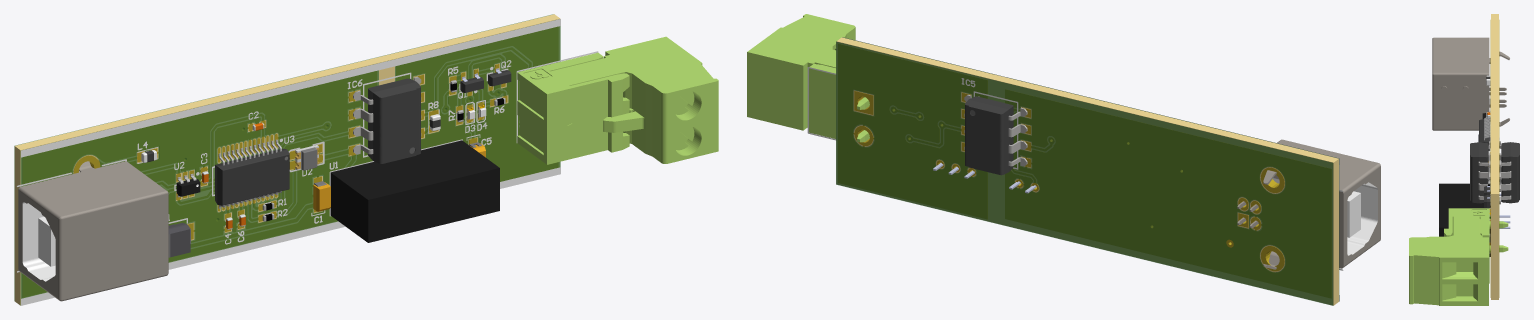
Rendered from MAIN.obj.
3 renders of one model, left to right at view 1: azimuth 30°, elevation 25°; view 2: azimuth 150°, elevation 25°; view 3: azimuth 270°, elevation 25°, orthographic. The views are drawn at different scales.
Visible parts, largest first — view 1: Solder_Top, ComponentBody.3, GND, ComponentBody.6, ComponentBody.2, Core, Top, GND1, ComponentBody.34, ComponentBody.4, ComponentBody.11, ComponentBody.15 (+6 smaller); view 2: Solder_Bottom, GND, GND1, Core, ComponentBody.3, ComponentBody.6, ComponentBody.4, ComponentBody.82, ComponentBody.78, Pad.2, ComponentBody.86, Top (+2 smaller); view 3: ComponentBody.3, ComponentBody.6, Core, ComponentBody.2, ComponentBody.82, ComponentBody.11, GND1, ComponentBody.78, ComponentBody.19, ComponentBody.15, ComponentBody.86, GND (+9 smaller).
Boxes of the visible parts, left/top/right/bottom form: Solder_Top: left=20, top=26, right=560, bottom=305; ComponentBody.3: left=517, top=36, right=718, bottom=164; GND: left=22, top=71, right=376, bottom=297; ComponentBody.6: left=18, top=161, right=168, bottom=301; ComponentBody.2: left=330, top=140, right=499, bottom=242; Core: left=14, top=14, right=560, bottom=305; Top: left=17, top=19, right=598, bottom=305; GND1: left=396, top=27, right=558, bottom=181; ComponentBody.34: left=215, top=148, right=289, bottom=205; ComponentBody.4: left=22, top=202, right=55, bottom=281; ComponentBody.11: left=368, top=78, right=420, bottom=127; ComponentBody.15: left=368, top=124, right=420, bottom=163; Solder_Bottom: left=836, top=41, right=1333, bottom=305; GND: left=1005, top=89, right=1331, bottom=298; GND1: left=838, top=44, right=987, bottom=219; Core: left=836, top=37, right=1338, bottom=305; ComponentBody.3: left=747, top=14, right=869, bottom=142; ComponentBody.6: left=1237, top=139, right=1380, bottom=269; ComponentBody.4: left=1272, top=178, right=1377, bottom=255; ComponentBody.82: left=965, top=96, right=1013, bottom=141; ComponentBody.78: left=965, top=138, right=1013, bottom=175; Pad.2: left=1238, top=167, right=1284, bottom=271; ComponentBody.86: left=965, top=123, right=1013, bottom=158; Top: left=807, top=37, right=1343, bottom=301; ComponentBody.3: left=1409, top=208, right=1508, bottom=305; ComponentBody.6: left=1432, top=37, right=1509, bottom=130; Core: left=1491, top=14, right=1498, bottom=299; ComponentBody.2: left=1439, top=183, right=1490, bottom=256; ComponentBody.82: left=1501, top=142, right=1519, bottom=178; ComponentBody.11: left=1470, top=142, right=1488, bottom=178; GND1: left=1490, top=141, right=1499, bottom=297; ComponentBody.78: left=1501, top=179, right=1519, bottom=203; ComponentBody.19: left=1470, top=169, right=1488, bottom=191; ComponentBody.15: left=1470, top=180, right=1487, bottom=203; ComponentBody.86: left=1501, top=167, right=1519, bottom=190; GND: left=1490, top=20, right=1499, bottom=140.
Bounding box in the file's own units: 9.61 × 2.2 × 2.08.
